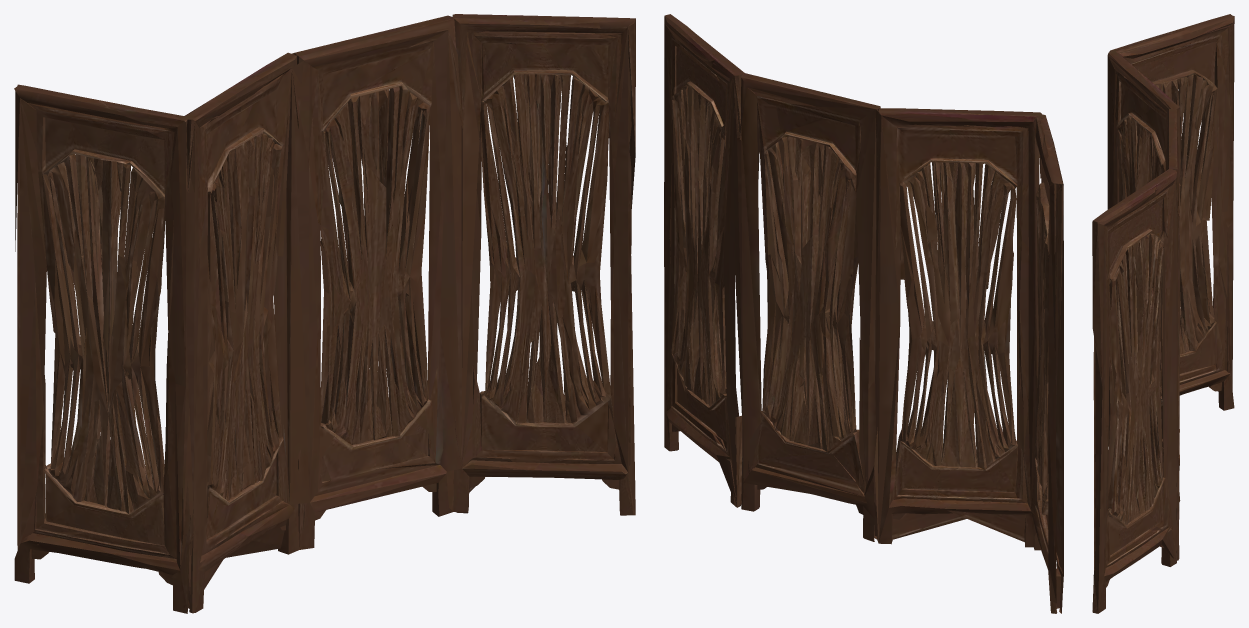
Rendered from loungeScreen.glb.
The picture shows the model from 3 angles, left to right: view 1: azimuth 30°, elevation 25°; view 2: azimuth 150°, elevation 25°; view 3: azimuth 270°, elevation 25°; orthographic projection. The views are drawn at different scales.
Bounding box in the file's own units: 1.9 × 1.67 × 0.5474.
Materials: 1 (1 with a texture image).
